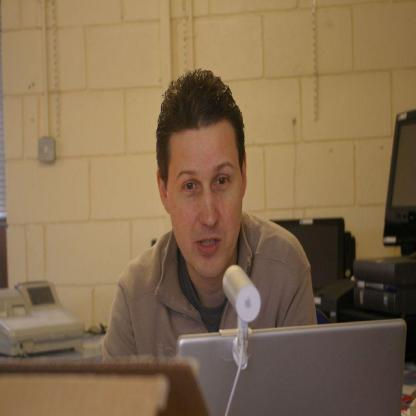board: (176, 319, 407, 416)
